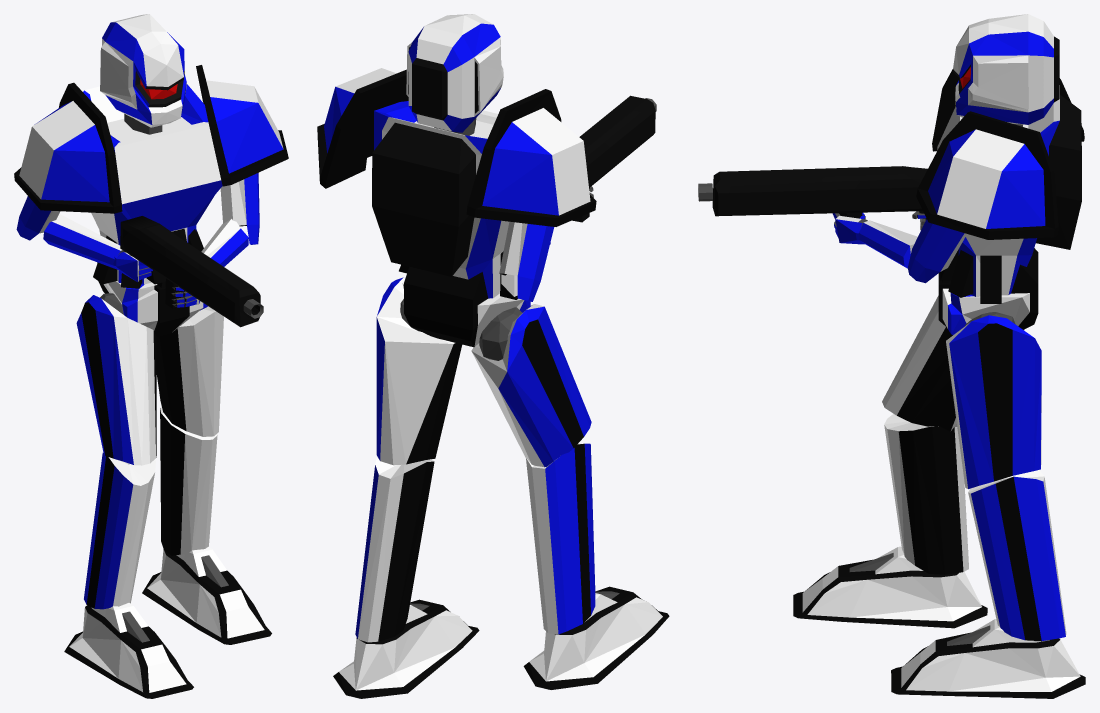
File: robot_animation_000023.obj
3 views of the same model, side by side, from view 1: azimuth 30°, elevation 25°; view 2: azimuth 150°, elevation 25°; view 3: azimuth 270°, elevation 25° (orthographic). The views are drawn at different scales.
Parts seen in each view (by area): view 1: Chest_plate_Cube.004, R_Thigh_Cube.005, Cube.002_Cube.059, Head_base_Cube.022, R_Shin_Cube.007, R_Foot.002_Cube.035, R_Foot_Cube, R_Thigh.002_Cube.027, Cube_Cube.001, R_Shin.002_Cube.029, Cube_Cube.021, Pelvis_Cube.006 (+5 smaller); view 2: Chest_plate_Cube.004, Cube.002_Cube.059, R_Thigh.002_Cube.027, R_Thigh_Cube.005, R_Shin_Cube.007, R_Shin.002_Cube.029, Head_base_Cube.022, R_Foot_Cube, R_Foot.002_Cube.035, Cube_Cube.021, Pelvis_Cube.006, Cube_Cube.001 (+2 smaller); view 3: Cube_Cube.021, R_Thigh.002_Cube.027, R_Shin.002_Cube.029, R_Shin_Cube.007, R_Foot.002_Cube.035, R_Foot_Cube, Head_base_Cube.022, Cube_Cube.001, Chest_plate_Cube.004, R_Thigh_Cube.005, Pelvis_Cube.006, L_Arm_Cube.014 (+3 smaller).
Boxes of the visible parts, x1,y1,x2,y2 form: Chest_plate_Cube.004: [83, 84, 222, 288]; R_Thigh_Cube.005: [76, 295, 156, 465]; Cube.002_Cube.059: [14, 82, 122, 213]; Head_base_Cube.022: [100, 14, 186, 127]; R_Shin_Cube.007: [84, 453, 155, 609]; R_Foot.002_Cube.035: [142, 546, 271, 644]; R_Foot_Cube: [64, 603, 193, 698]; R_Thigh.002_Cube.027: [156, 306, 223, 436]; Cube_Cube.001: [120, 216, 263, 327]; R_Shin.002_Cube.029: [160, 407, 217, 555]; Cube_Cube.021: [196, 65, 288, 186]; Pelvis_Cube.006: [97, 262, 207, 336]; Chest_plate_Cube.004: [372, 101, 517, 299]; Cube.002_Cube.059: [466, 89, 596, 226]; R_Thigh.002_Cube.027: [376, 277, 462, 465]; R_Thigh_Cube.005: [471, 304, 591, 467]; R_Shin_Cube.007: [526, 443, 595, 634]; R_Shin.002_Cube.029: [355, 456, 434, 642]; Head_base_Cube.022: [406, 14, 503, 132]; R_Foot_Cube: [523, 586, 669, 689]; R_Foot.002_Cube.035: [333, 599, 479, 698]; Cube_Cube.021: [317, 68, 408, 188]; Pelvis_Cube.006: [402, 266, 530, 347]; Cube_Cube.001: [572, 95, 656, 222]; Cube_Cube.021: [916, 111, 1058, 239]; R_Thigh.002_Cube.027: [946, 315, 1041, 489]; R_Shin.002_Cube.029: [968, 470, 1066, 641]; R_Shin_Cube.007: [884, 414, 968, 574]; R_Foot.002_Cube.035: [891, 619, 1085, 698]; R_Foot_Cube: [793, 546, 987, 628]; Head_base_Cube.022: [953, 14, 1059, 124]; Cube_Cube.001: [698, 166, 927, 220]; Chest_plate_Cube.004: [937, 85, 1081, 303]; R_Thigh_Cube.005: [882, 295, 1024, 431]; Pelvis_Cube.006: [938, 248, 1038, 334]; L_Arm_Cube.014: [908, 219, 966, 283].
Bounding box in the file's own units: 1.32 × 3.03 × 1.69.
